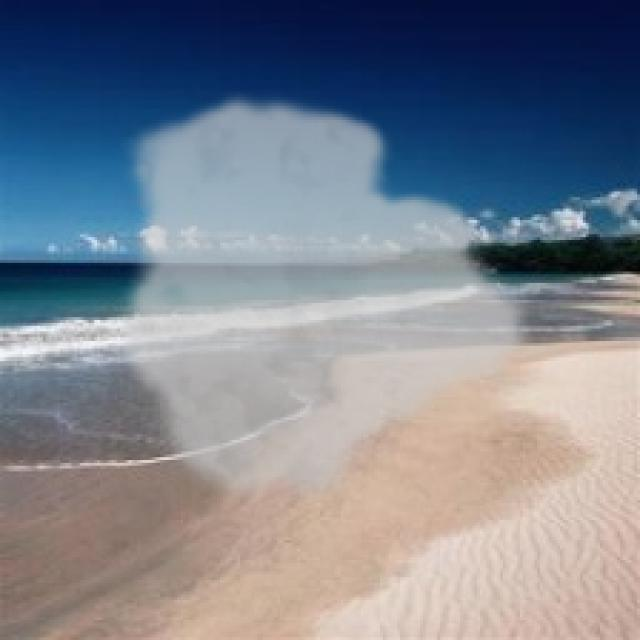smoke: (114, 91, 540, 512)
